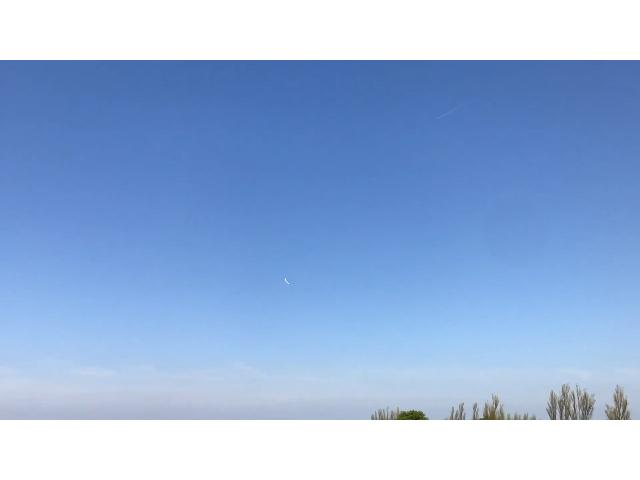Anti-Drone: (277, 271, 301, 297)
